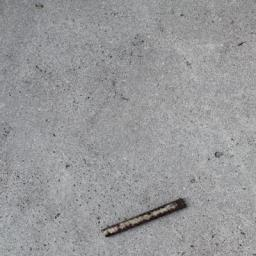FOD: (101, 197, 190, 239)
